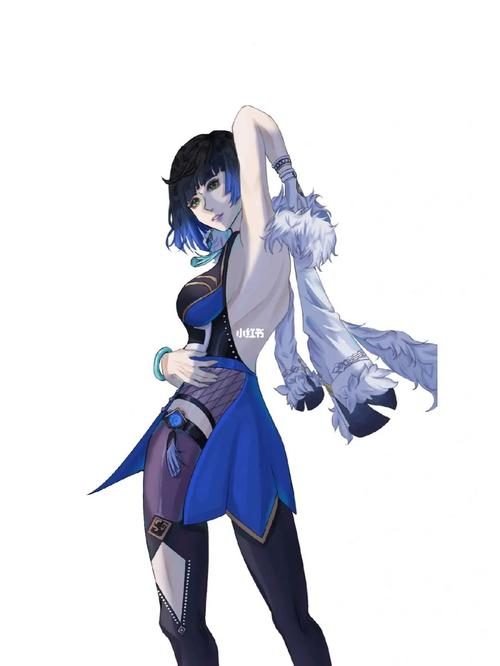夜兰: (68, 107, 341, 666)
